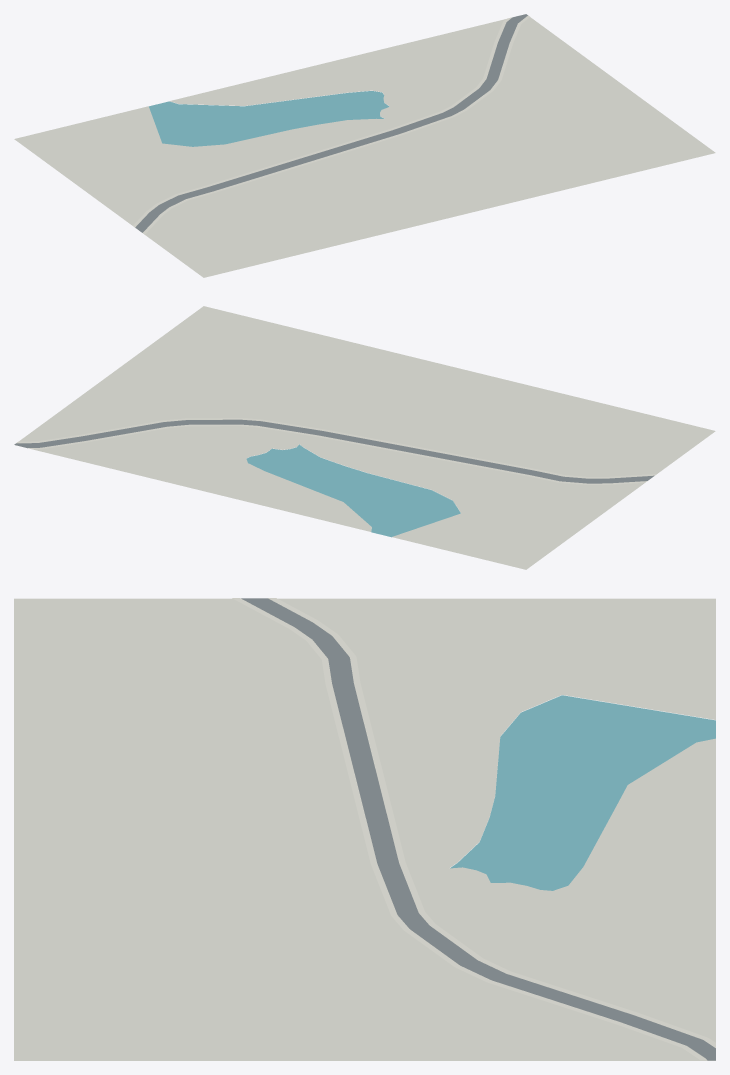
3 renders of one model, top to bottom at view 1: azimuth 30°, elevation 25°; view 2: azimuth 150°, elevation 25°; view 3: azimuth 270°, elevation 25°, orthographic. The views are drawn at different scales.
Visible parts, largest first — view 1: city; view 2: city; view 3: city.
Boxes of the visible parts, <box> form: city: <box>14,14,715,277</box>; city: <box>14,306,715,569</box>; city: <box>14,598,715,1060</box>.
Size of the model in its own units: 500 by 0.4 by 321.
